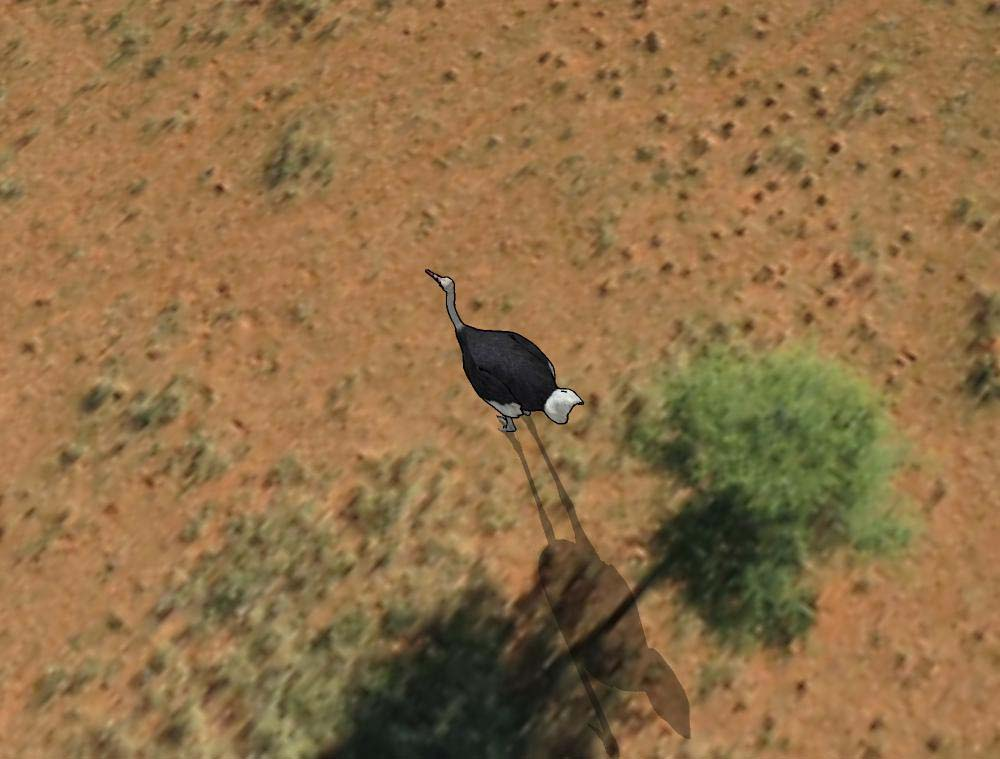springbok: (422, 264, 583, 435)
